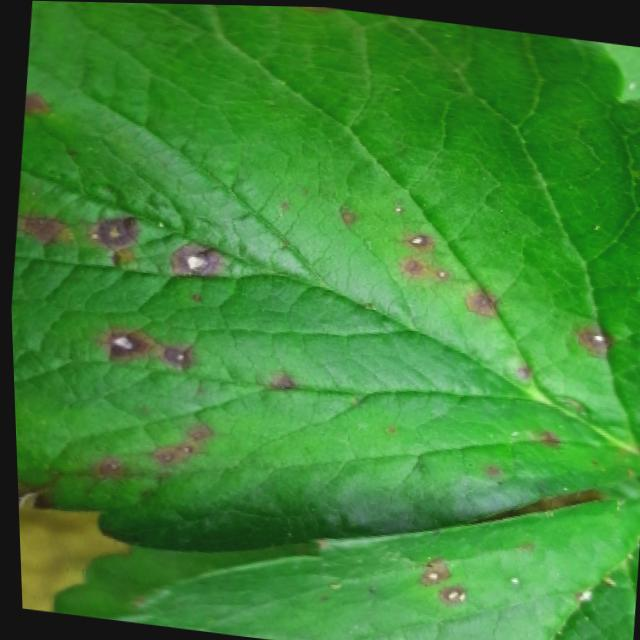Leaf Spot: (9, 1, 640, 550), (97, 491, 639, 640)
